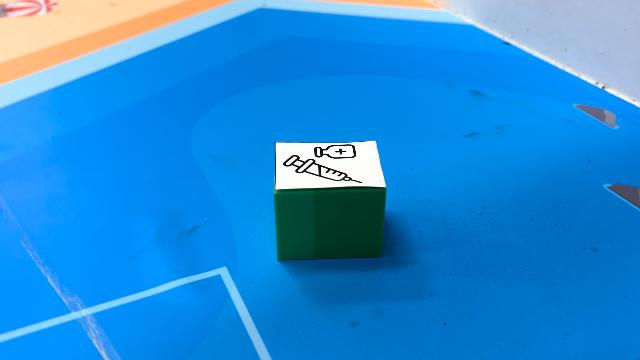syringe: (274, 140, 384, 264)
